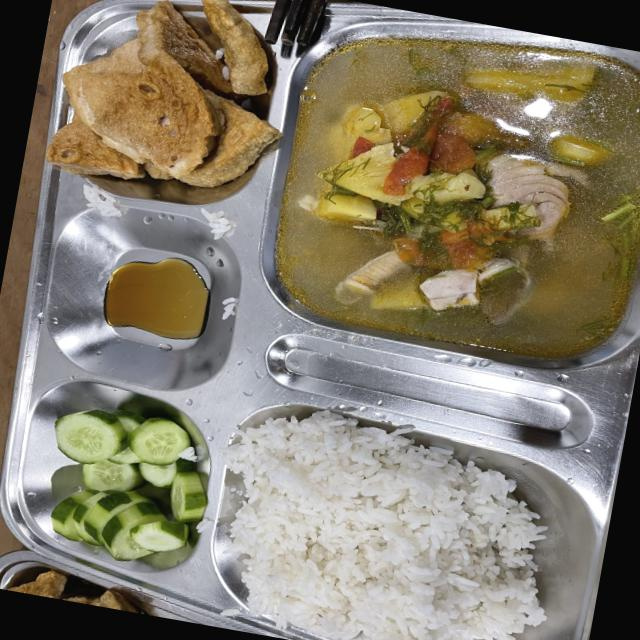canh chua: (279, 37, 640, 353)
com: (226, 411, 546, 640)
dua leo: (51, 410, 206, 561)
